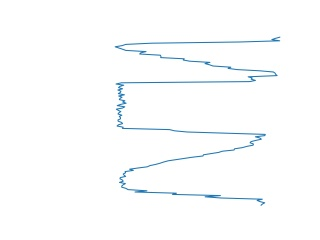distributaryChannelFill: (114, 73, 270, 142)
mouthBar: (112, 34, 283, 75)
underwaterDistributaryChannel: (117, 136, 268, 207)
